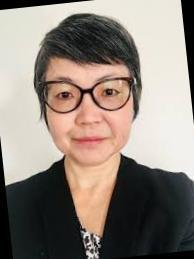Sober: (49, 59, 128, 162)
